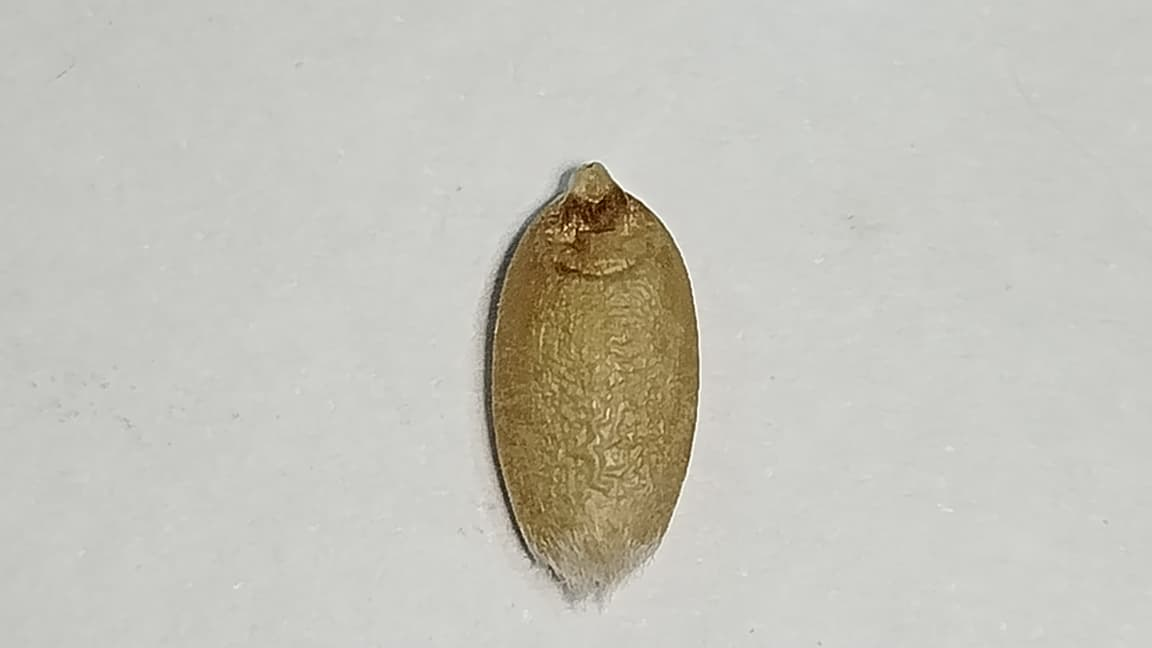black_point: (551, 193, 637, 235)
healthy: (484, 161, 699, 599)
